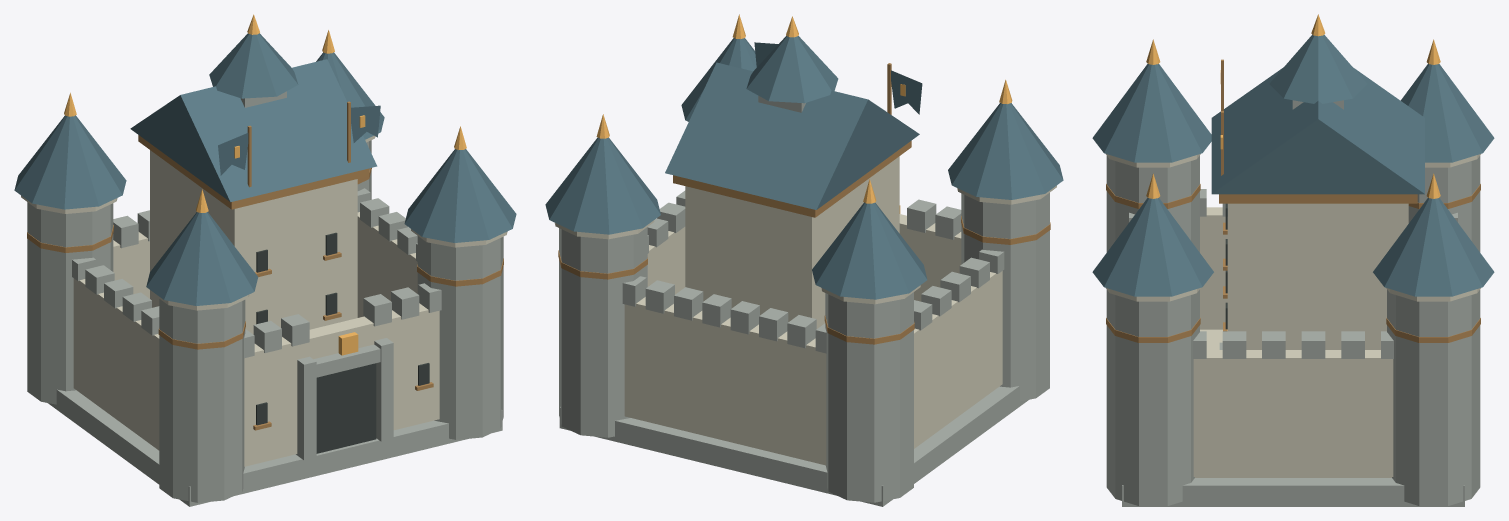
File: SM_CitadelCrownV6.fbx
3 views of the same model, side by side, from view 1: azimuth 30°, elevation 25°; view 2: azimuth 150°, elevation 25°; view 3: azimuth 270°, elevation 25° (orthographic). The views are drawn at different scales.
Parts seen in each view (by area): view 1: SM_CitadelCrownV6; view 2: SM_CitadelCrownV6; view 3: SM_CitadelCrownV6.
Boxes of the visible parts, x1,y1,x2,y2 form: SM_CitadelCrownV6: (14, 14, 516, 506); SM_CitadelCrownV6: (545, 14, 1063, 506); SM_CitadelCrownV6: (1092, 14, 1494, 506).
Size of the model in its own units: 7.32 by 6.8 by 7.68.
